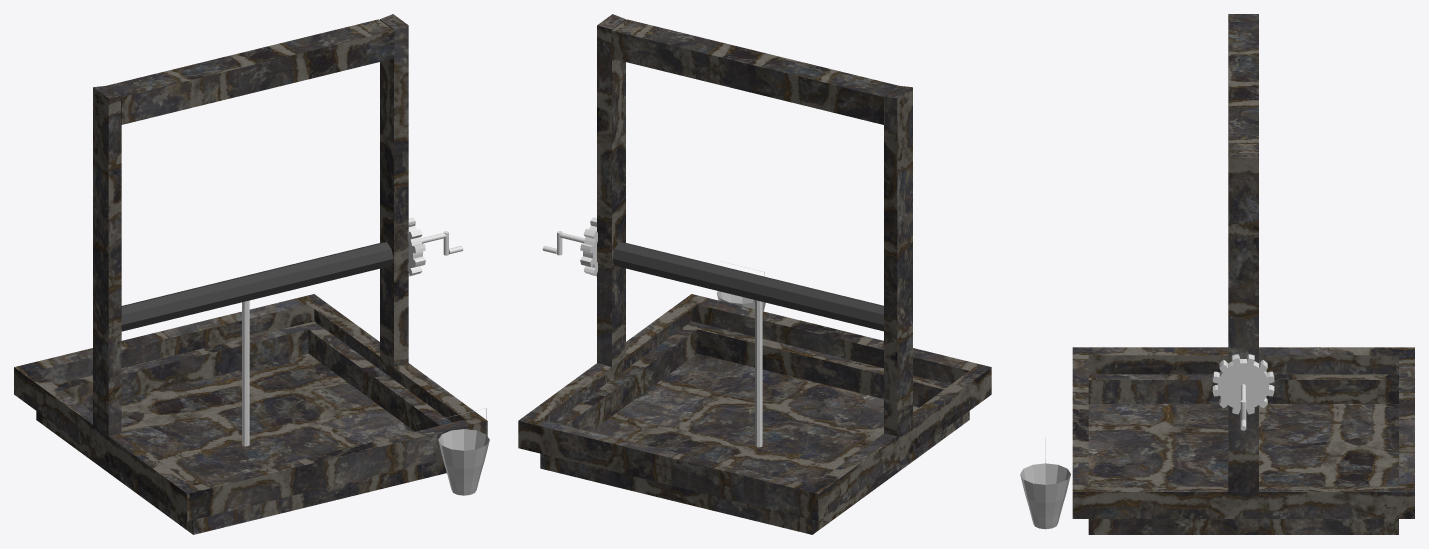
The model's file is Well.fbx.
3 renders of one model, left to right at view 1: azimuth 30°, elevation 25°; view 2: azimuth 150°, elevation 25°; view 3: azimuth 270°, elevation 25°, orthographic.
Parts seen in each view (by area): view 1: Cube.015, Cylinder, Circle, Gear, Cylinder.001; view 2: Cube.015, Cylinder, Cylinder.001, Gear; view 3: Cube.015, Gear, Circle.
Part boxes in pixels (x1,y1,x2,y2): Cube.015: [14, 14, 487, 534]; Cylinder: [121, 242, 393, 331]; Circle: [438, 408, 489, 495]; Gear: [407, 217, 463, 276]; Cylinder.001: [242, 300, 249, 446]; Cube.015: [518, 14, 991, 534]; Cylinder: [612, 242, 883, 331]; Cylinder.001: [755, 300, 762, 447]; Gear: [542, 217, 597, 276]; Cube.015: [1072, 14, 1414, 534]; Gear: [1212, 354, 1274, 430]; Circle: [1020, 437, 1070, 529].
Size of the model in its own units: 265 by 274 by 254.
